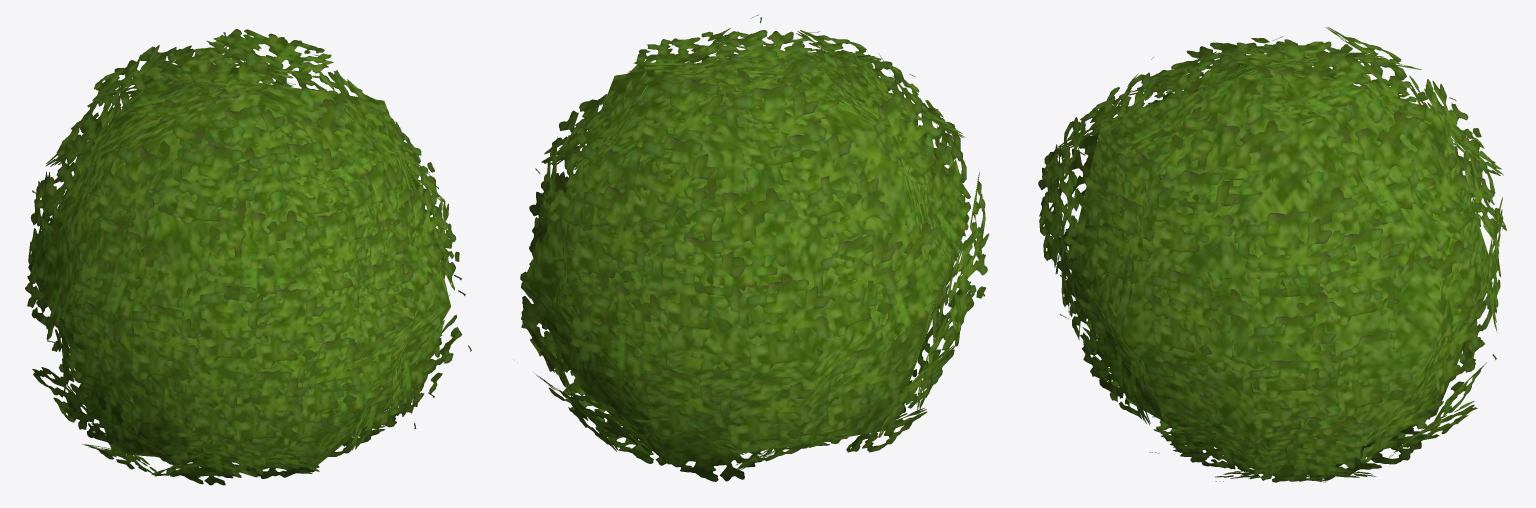
File: shrub_3200.glb
3 renders of one model, left to right at view 1: azimuth 30°, elevation 25°; view 2: azimuth 150°, elevation 25°; view 3: azimuth 270°, elevation 25°, orthographic.
Parts seen in each view (by area): view 1: shrub_3200; view 2: shrub_3200; view 3: shrub_3200.
Boxes of the visible parts, x1=… form: shrub_3200: x1=25, y1=29, x2=471, y2=485; shrub_3200: x1=520, y1=14, x2=988, y2=481; shrub_3200: x1=1038, y1=27, x2=1506, y2=482.
Bounding box in the file's own units: 0.979 × 0.9 × 1.04.
Materials: 1 (1 with a texture image).
